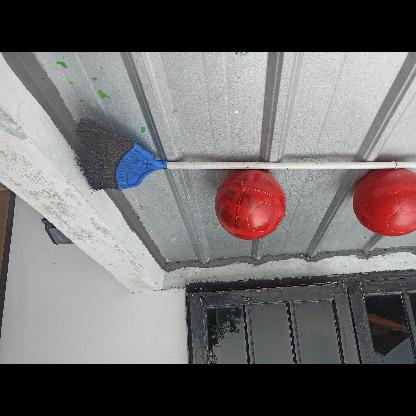red_ball: (216, 172, 288, 242), (356, 165, 415, 241)
